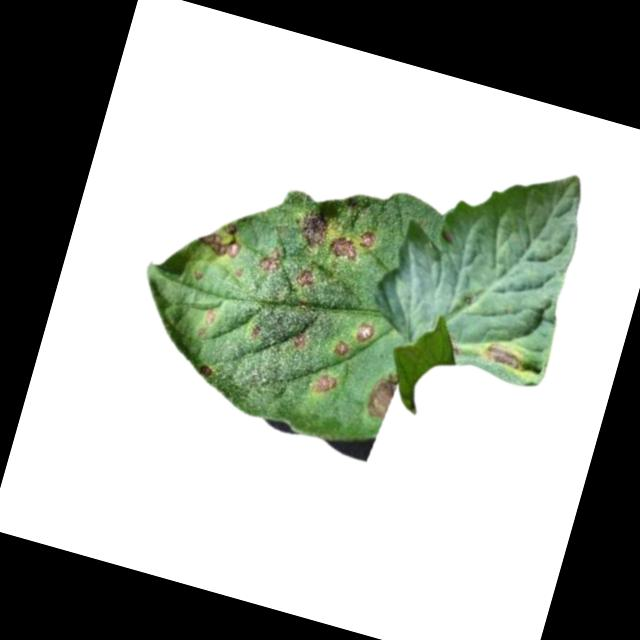Early_blight: (194, 212, 249, 263), (480, 334, 532, 379), (362, 368, 401, 423), (291, 206, 334, 254), (326, 230, 362, 262), (311, 371, 342, 399), (258, 244, 285, 276), (352, 316, 378, 345), (292, 262, 317, 290), (195, 359, 219, 381), (358, 229, 379, 251), (291, 331, 309, 351), (331, 338, 350, 356), (201, 306, 218, 326), (248, 321, 264, 342)
